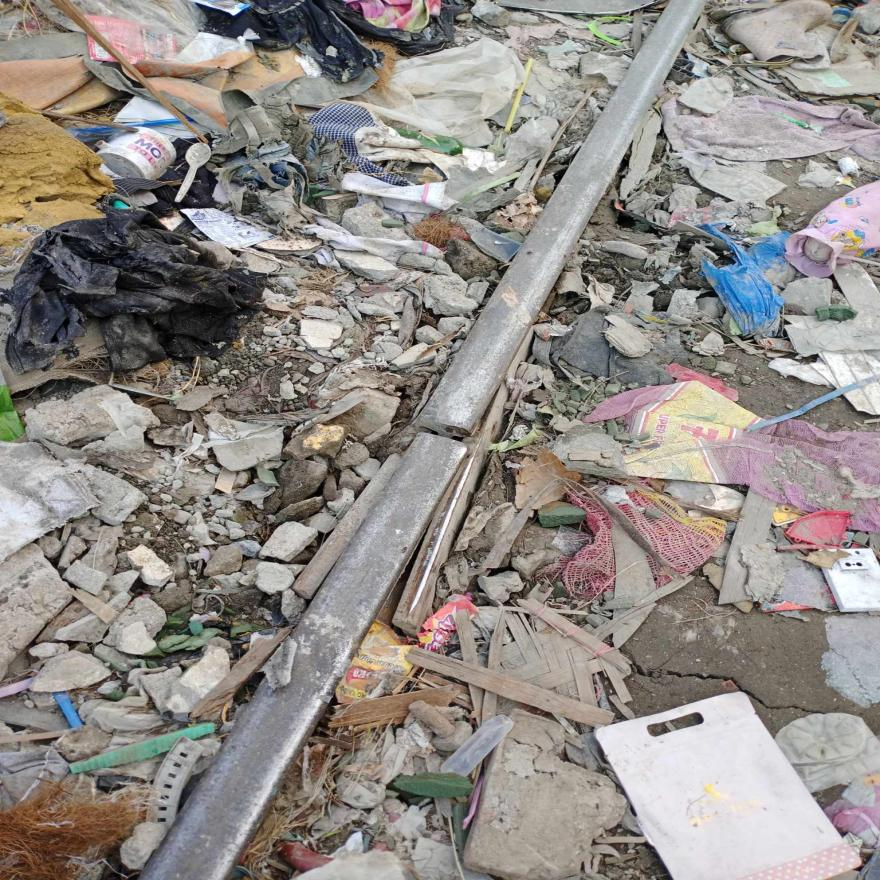railway-gap: (372, 387, 505, 486)
